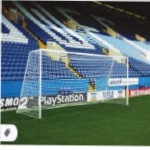goals: (16, 47, 130, 119)
